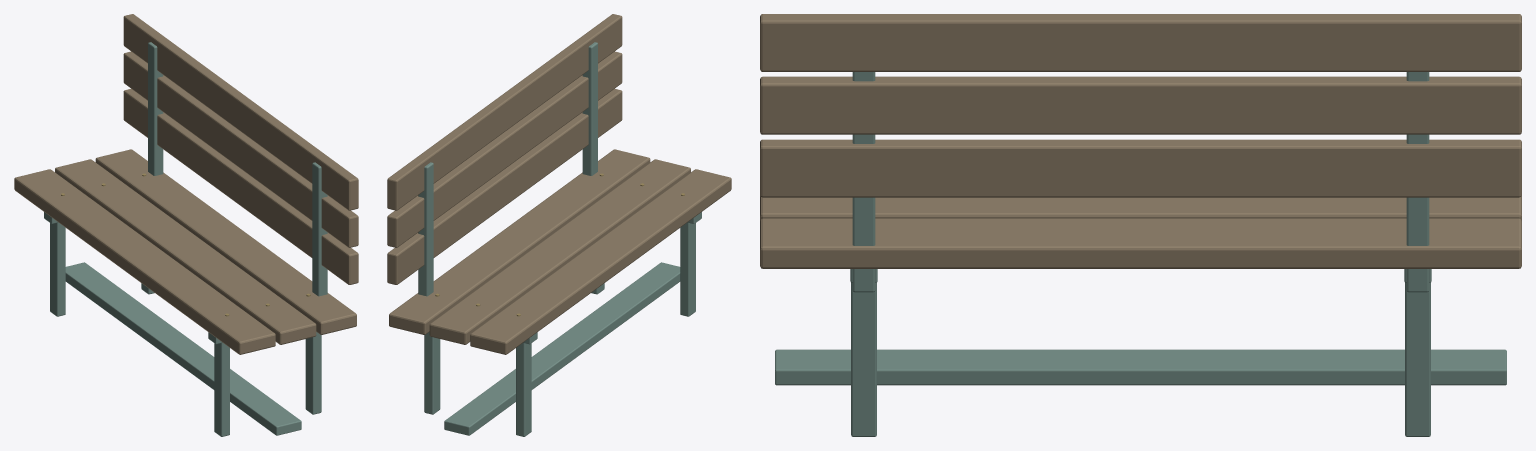
File: bench_finish.glb
3 renders of one model, left to right at view 1: azimuth 30°, elevation 25°; view 2: azimuth 150°, elevation 25°; view 3: azimuth 270°, elevation 25°, orthographic. The views are drawn at different scales.
Visible parts, largest first — view 1: bench_finish_椅面旧木, bench_finish_旧绿漆; view 2: bench_finish_椅面旧木, bench_finish_旧绿漆; view 3: bench_finish_椅面旧木, bench_finish_旧绿漆.
Part boxes in pixels (x1,y1,x2,y2): bench_finish_椅面旧木: [14, 14, 358, 354]; bench_finish_旧绿漆: [44, 42, 327, 436]; bench_finish_椅面旧木: [387, 14, 731, 354]; bench_finish_旧绿漆: [418, 42, 701, 436]; bench_finish_椅面旧木: [760, 14, 1521, 268]; bench_finish_旧绿漆: [775, 72, 1506, 436].
Bounding box in the file's own units: 0.4705 × 0.9475 × 1.54.
